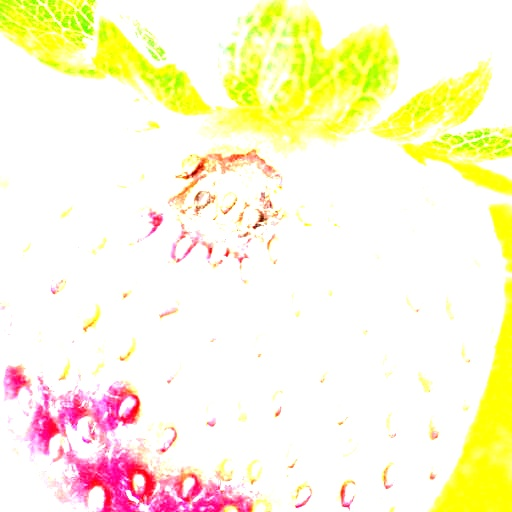Anthracnose Fruit Rot: (143, 127, 318, 284)
